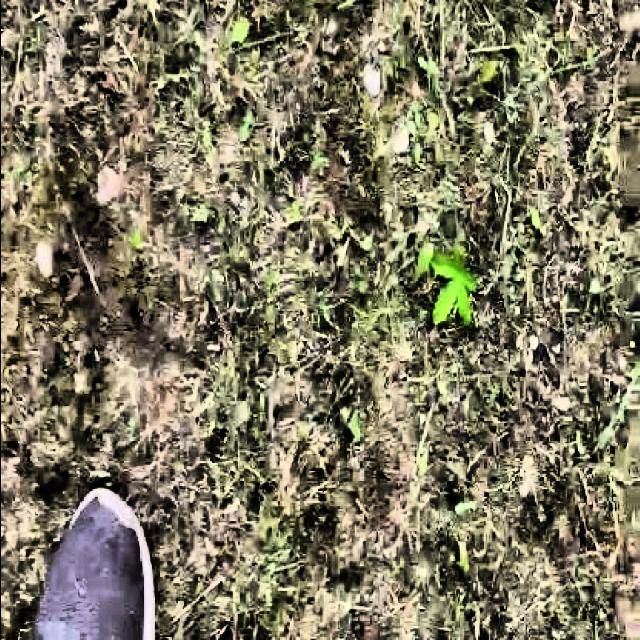Weeds: (425, 249, 478, 331)
